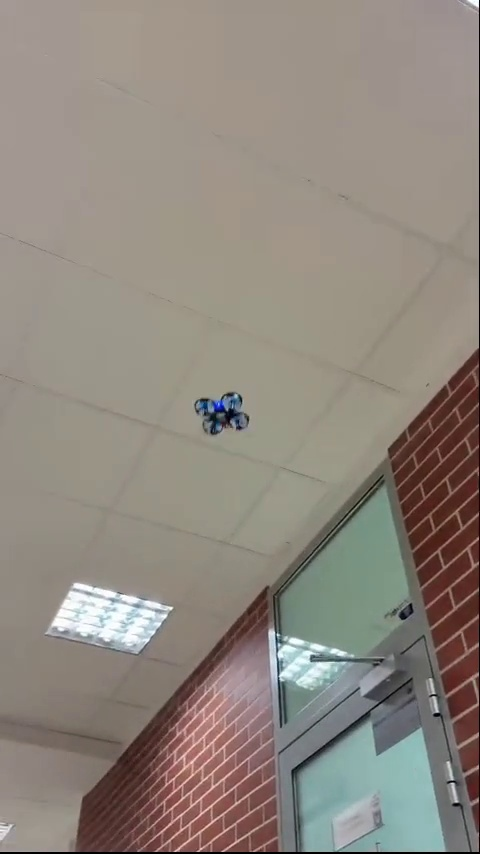drone: (194, 391, 249, 437)
